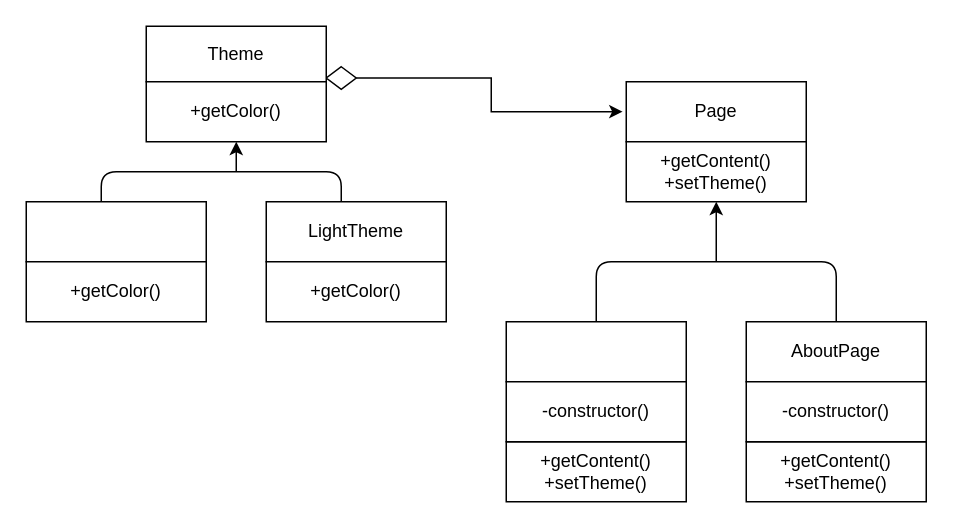
This 953x528 diagram has some shape labels left out. The centre of each missing label's shape, as x and y in pixels:
"DarkTheme" belongs at pixel 115 231.
"MainPage" belongs at pixel 595 351.
